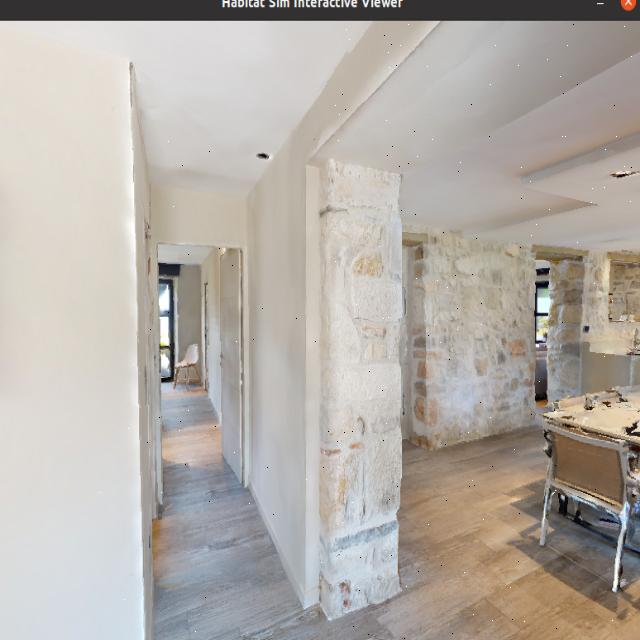chair: (532, 392, 640, 599)
door-frame: (309, 19, 639, 640), (97, 59, 330, 640), (140, 230, 264, 508)
table: (532, 363, 640, 504)
